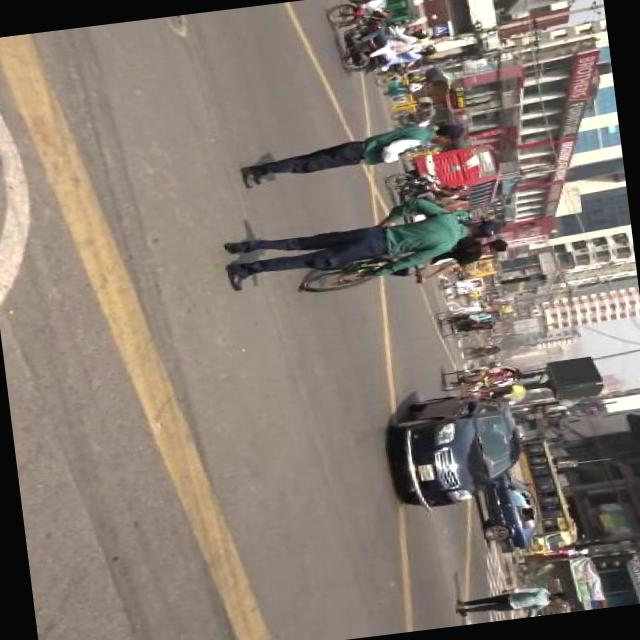bus: (493, 433, 584, 556), (409, 140, 510, 217), (461, 257, 502, 290)
car: (386, 386, 532, 514), (476, 464, 548, 556), (468, 289, 484, 300)
motorcycle: (328, 0, 439, 76), (382, 162, 473, 219), (438, 358, 526, 396), (436, 304, 504, 342), (347, 0, 422, 33), (371, 58, 425, 86), (391, 104, 441, 127), (463, 342, 503, 361)
